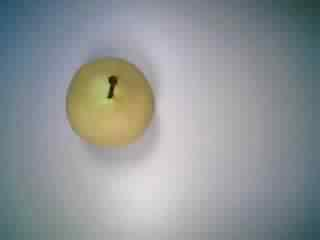pear: (48, 53, 169, 148)
